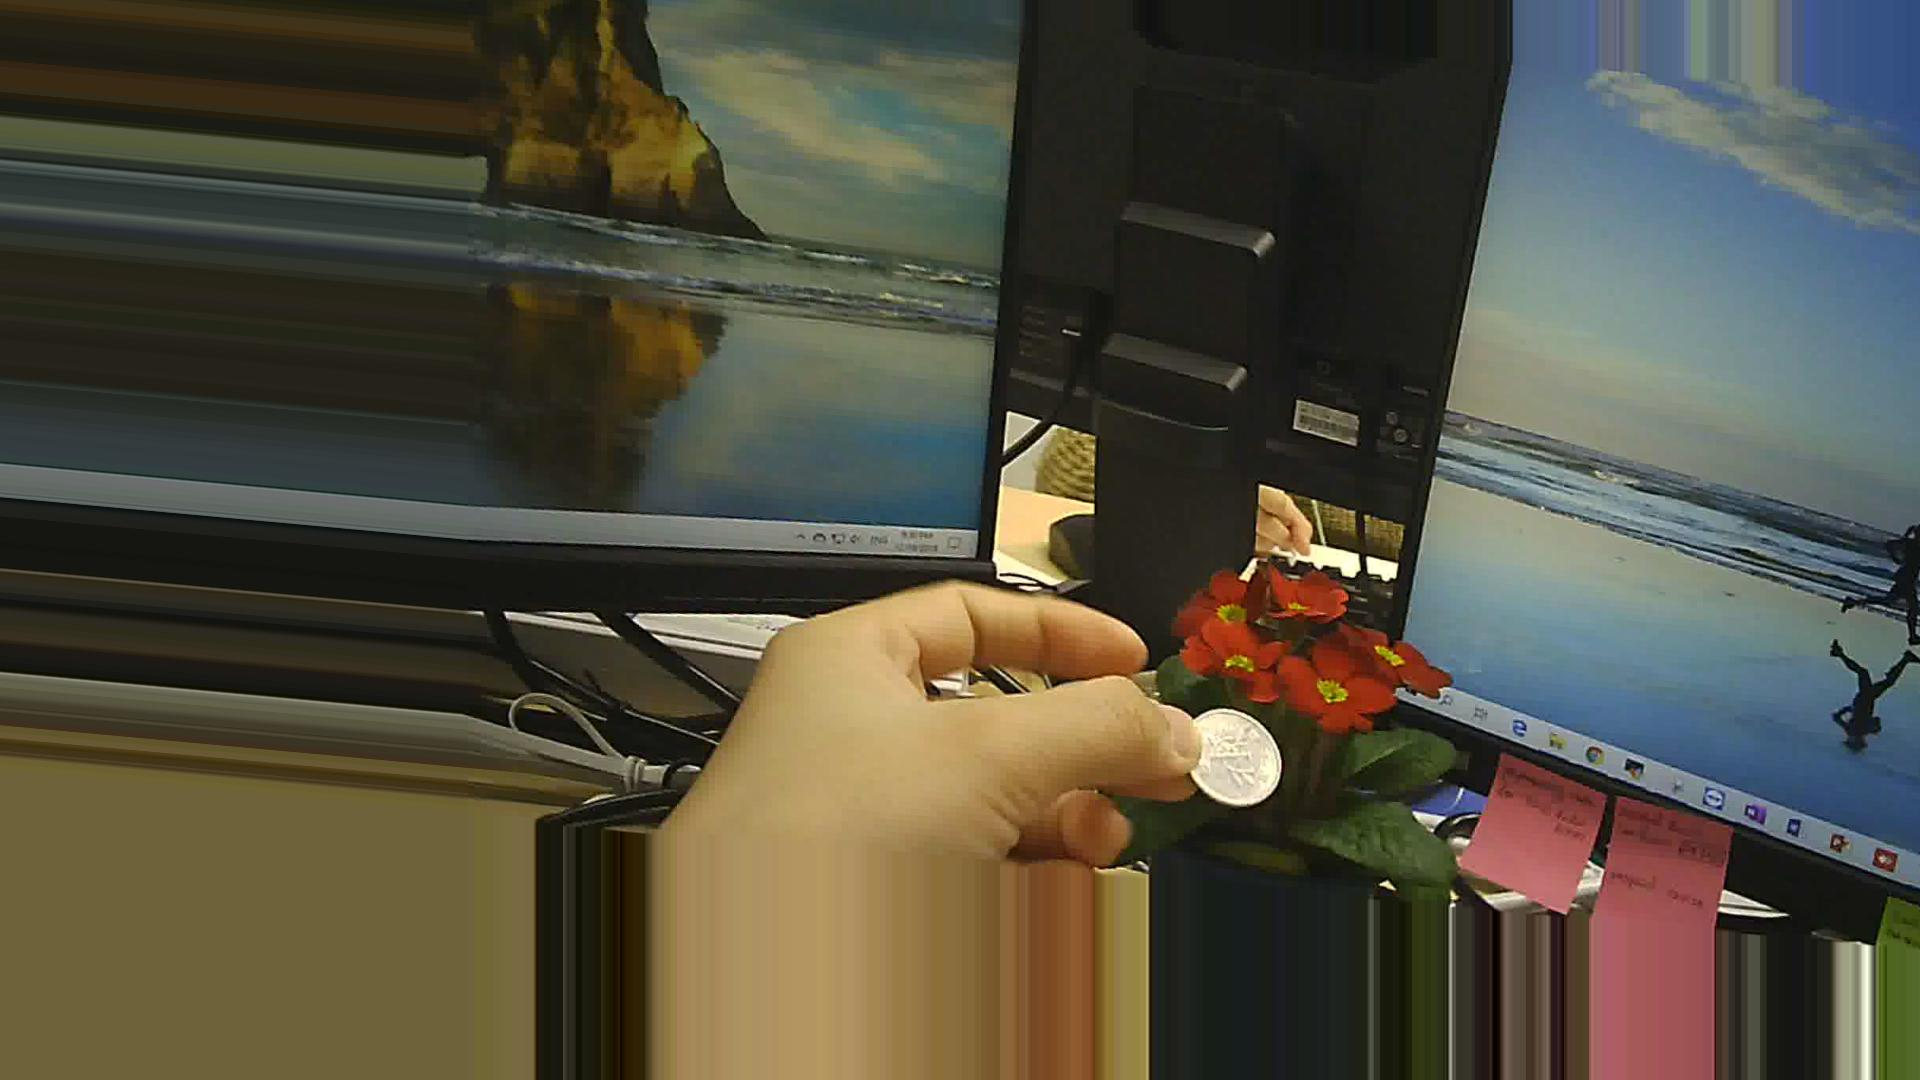1 Yen: (1175, 699, 1279, 799)
